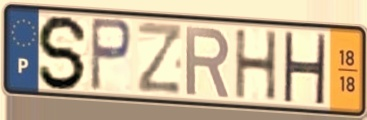H: (280, 29, 328, 107), (232, 28, 280, 103)
P: (88, 15, 135, 94)
R: (184, 23, 233, 100)
S: (35, 13, 92, 92)
Z: (136, 19, 184, 96)
